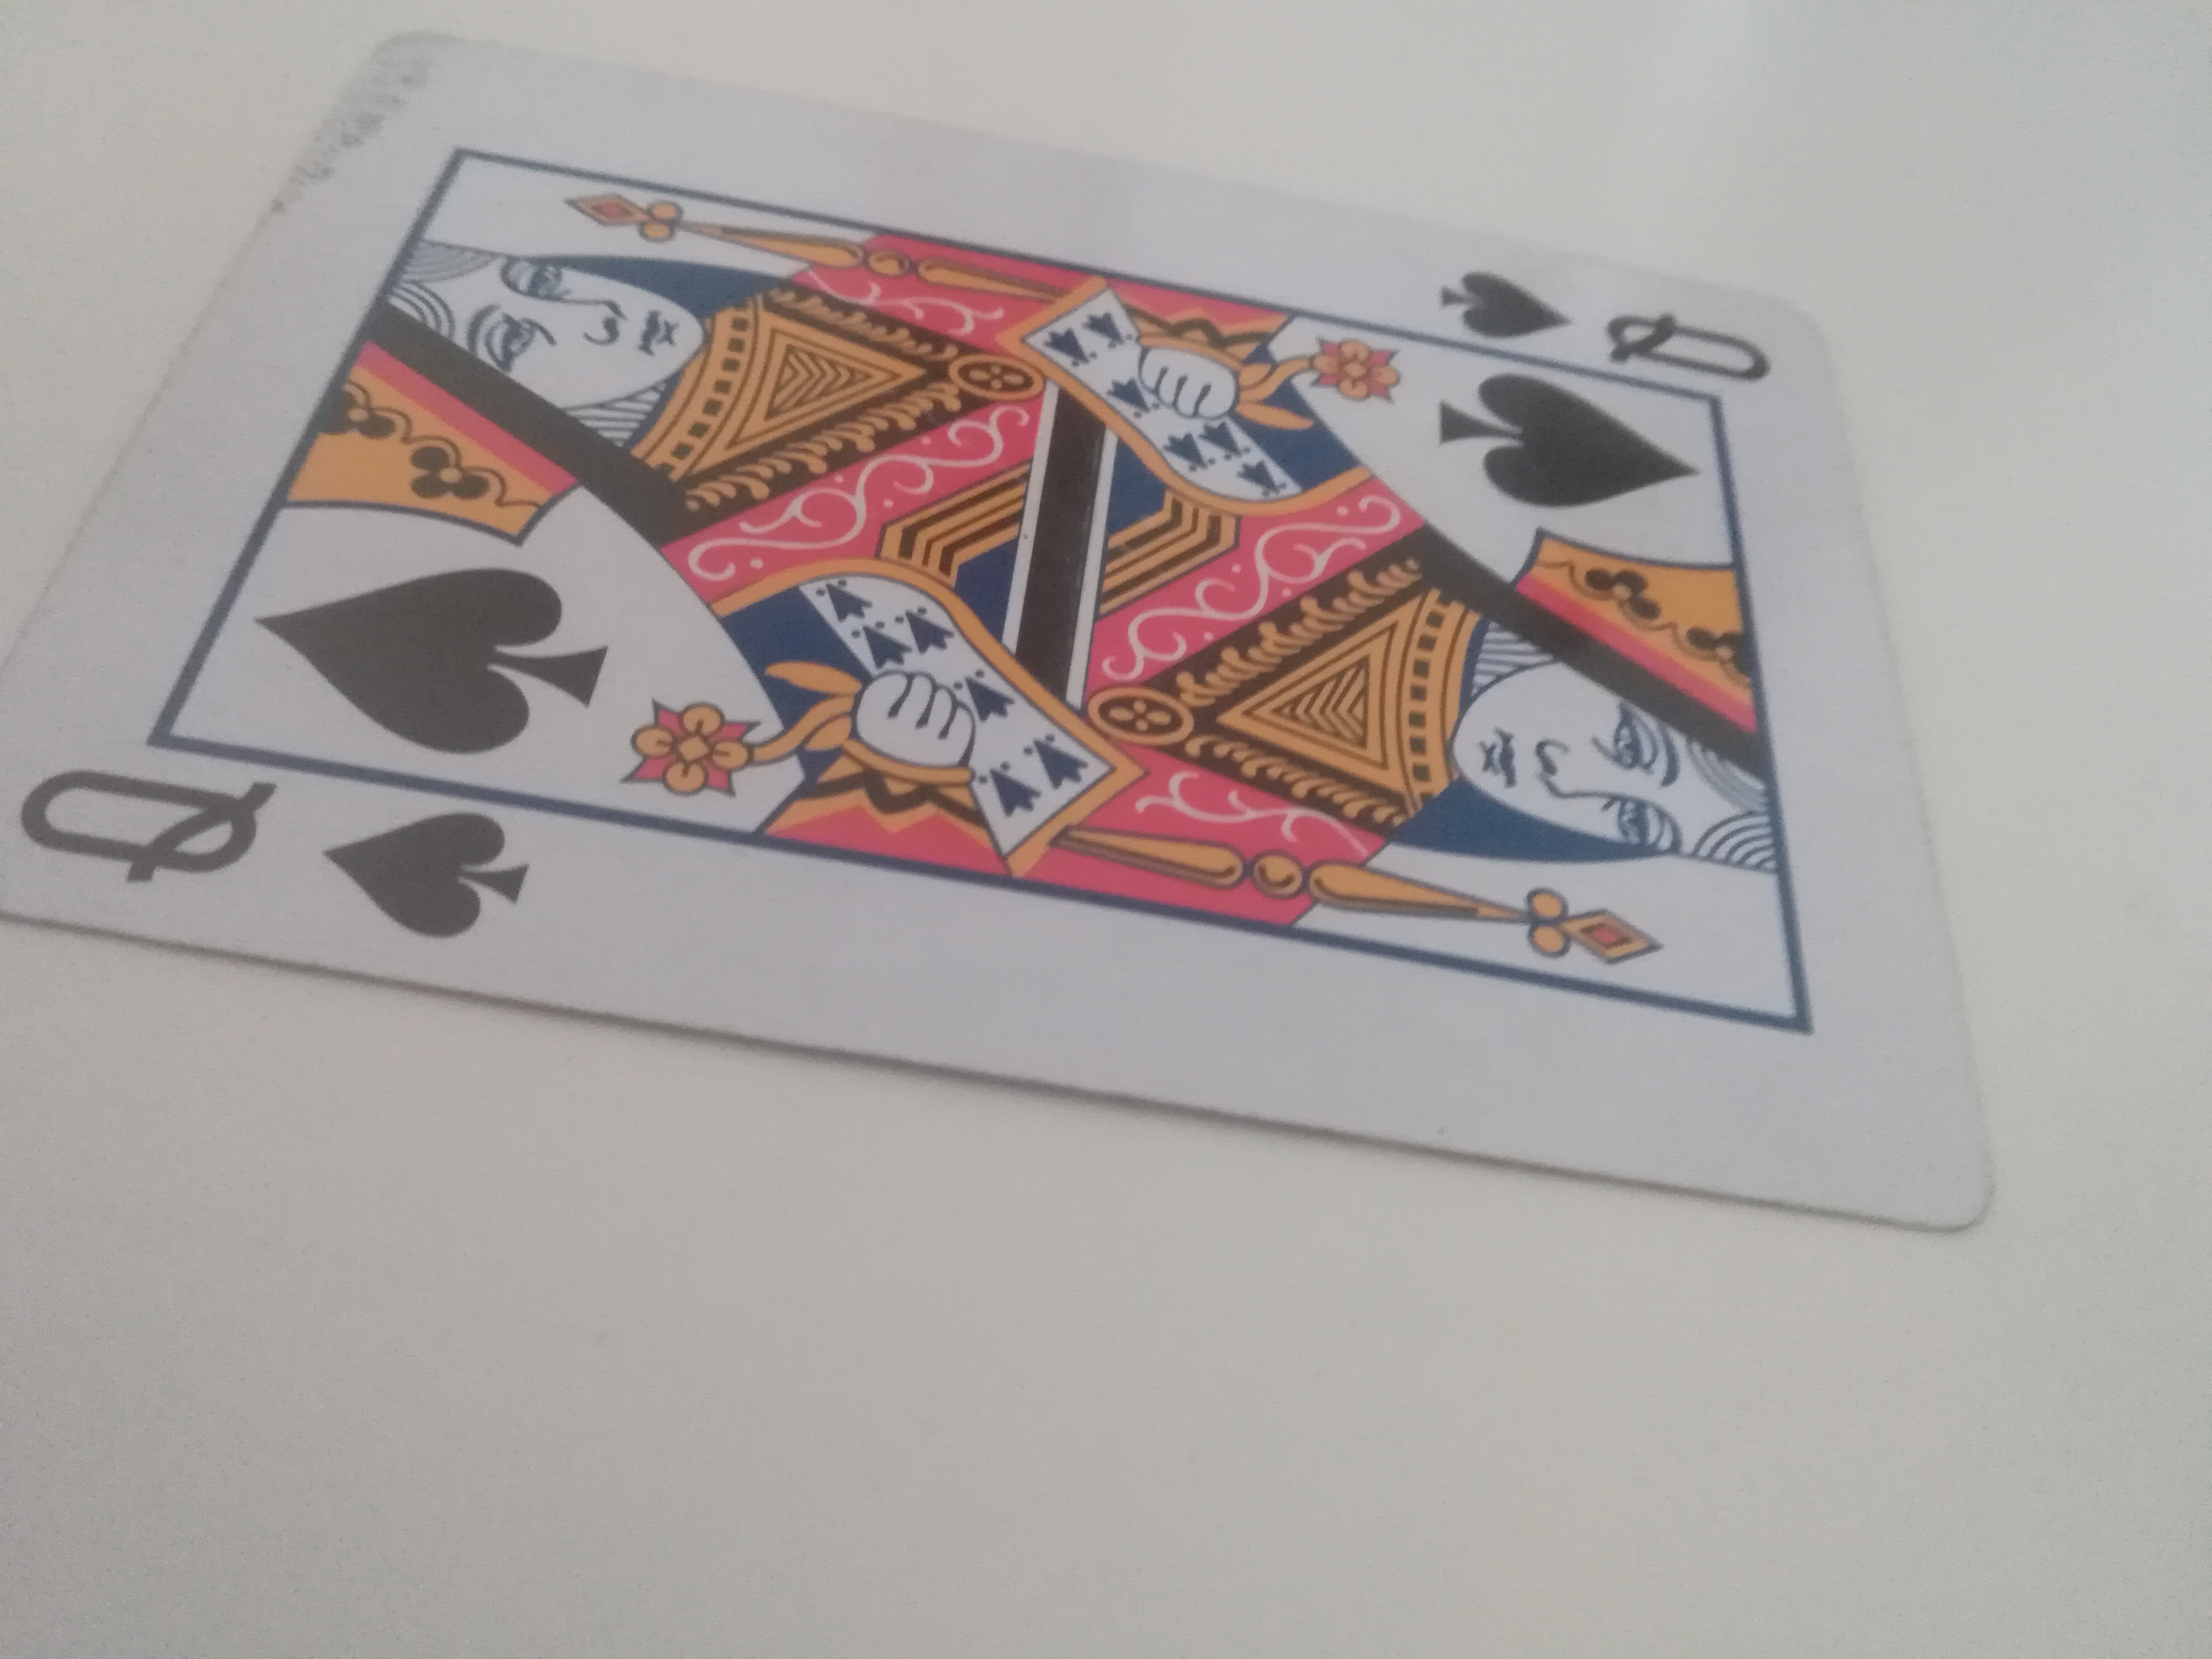QS: (0, 38, 2033, 1243)
